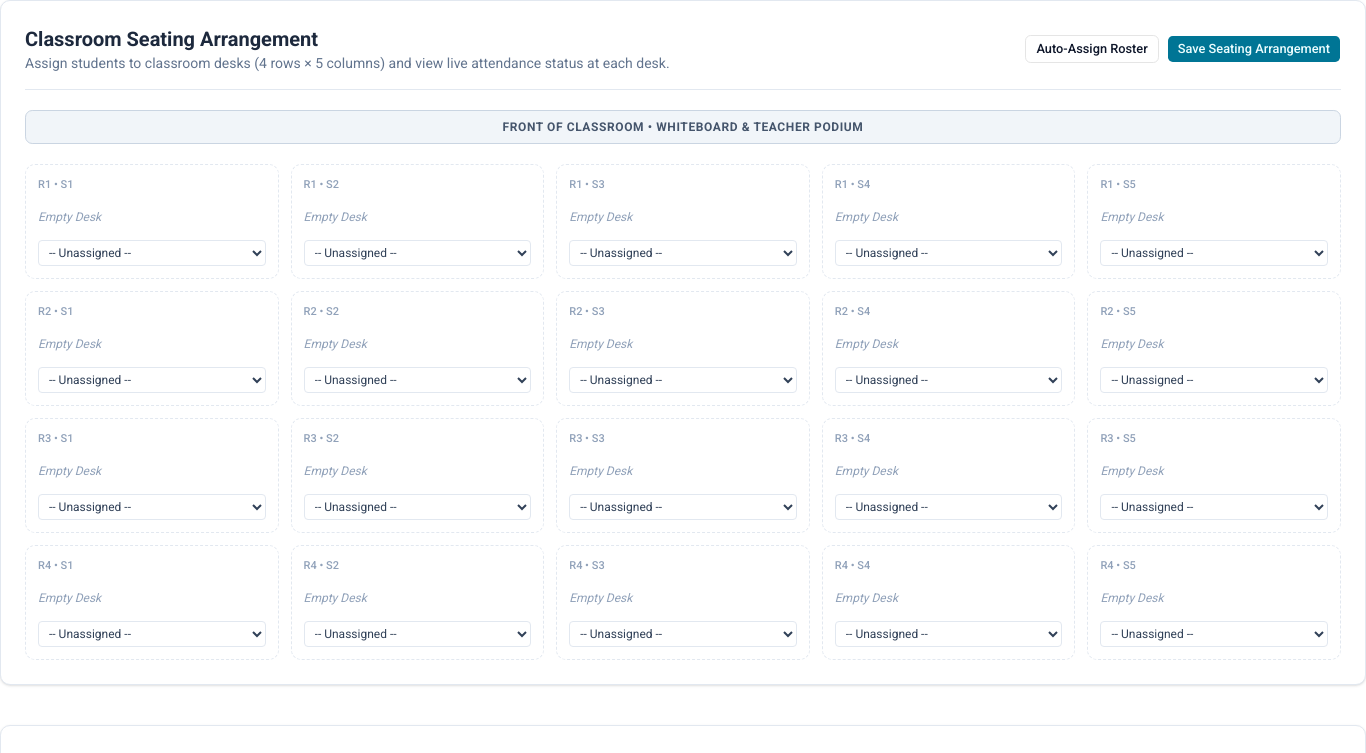
Scenario: ClassroomAttendanceManager › allows teachers to save updated seating arrangements
Step 1. Click the button "Save Seating Arrangement" → (1254, 49), box [1167,35,1341,63]
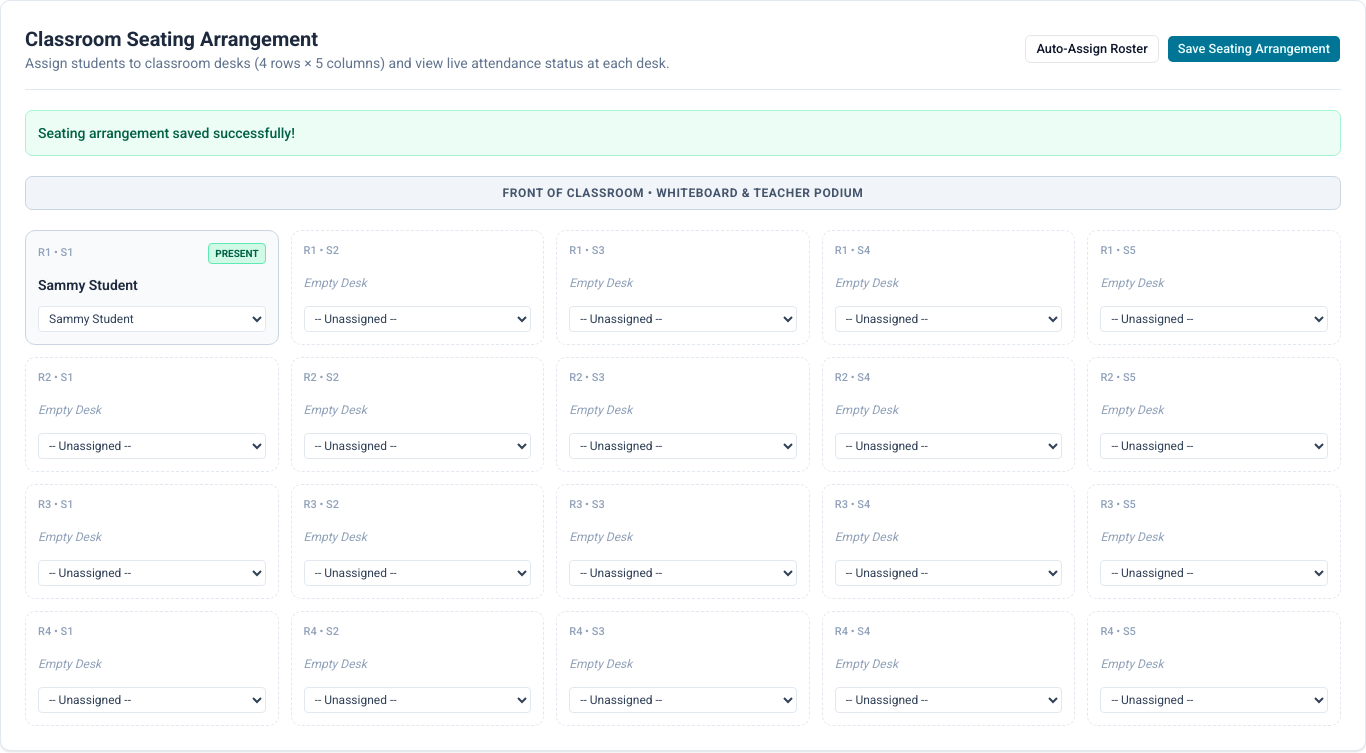
Expected: the text "Seating arrangement saved successfully!" is shown, [25,110,1341,156]
